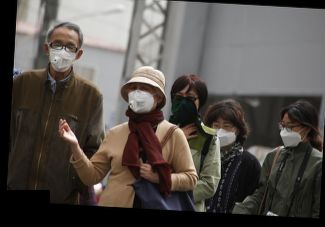with_mask: (45, 37, 78, 72), (127, 82, 157, 113), (169, 89, 200, 118), (277, 118, 306, 147), (209, 117, 237, 147)
